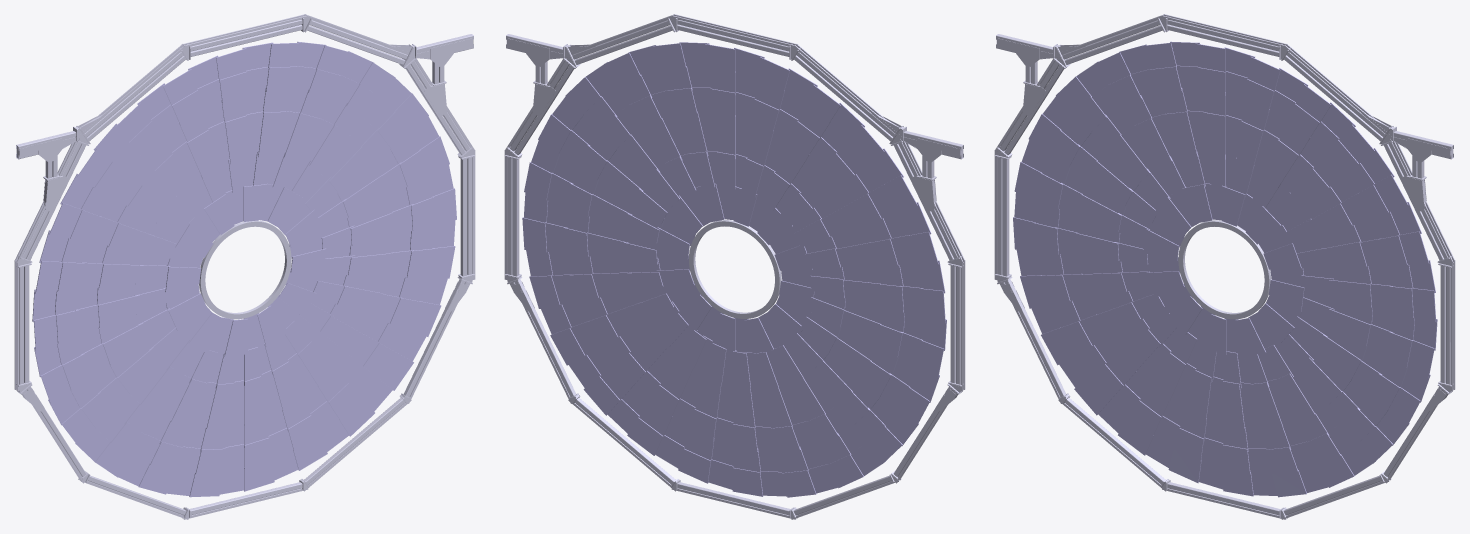
Rendered from TGC3-SideC-cut1.glb.
The picture shows the model from 3 angles, left to right: view 1: azimuth 30°, elevation 25°; view 2: azimuth 150°, elevation 25°; view 3: azimuth 330°, elevation 25°; orthographic projection.
Parts seen in each view (by area): view 1: null; view 2: null; view 3: null.
Boxes of the visible parts, left/top/right/bottom form: null: left=14, top=14, right=475, bottom=519; null: left=504, top=14, right=965, bottom=519; null: left=994, top=14, right=1455, bottom=519.
Size of the model in its own units: 25.91 by 25.65 by 0.4083.
